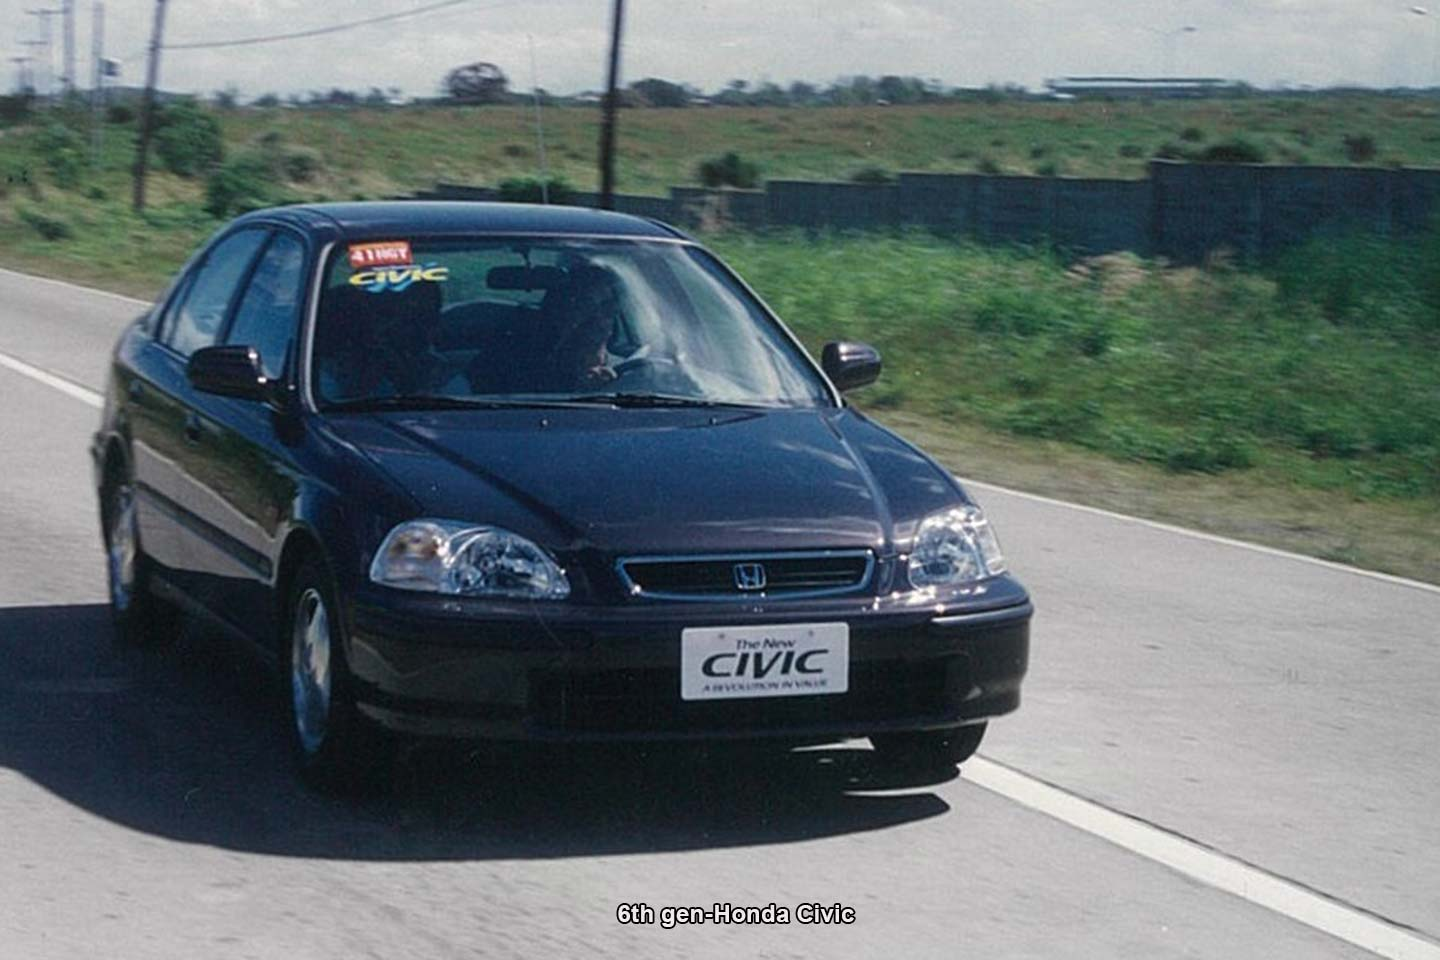car: (82, 192, 1039, 809)
